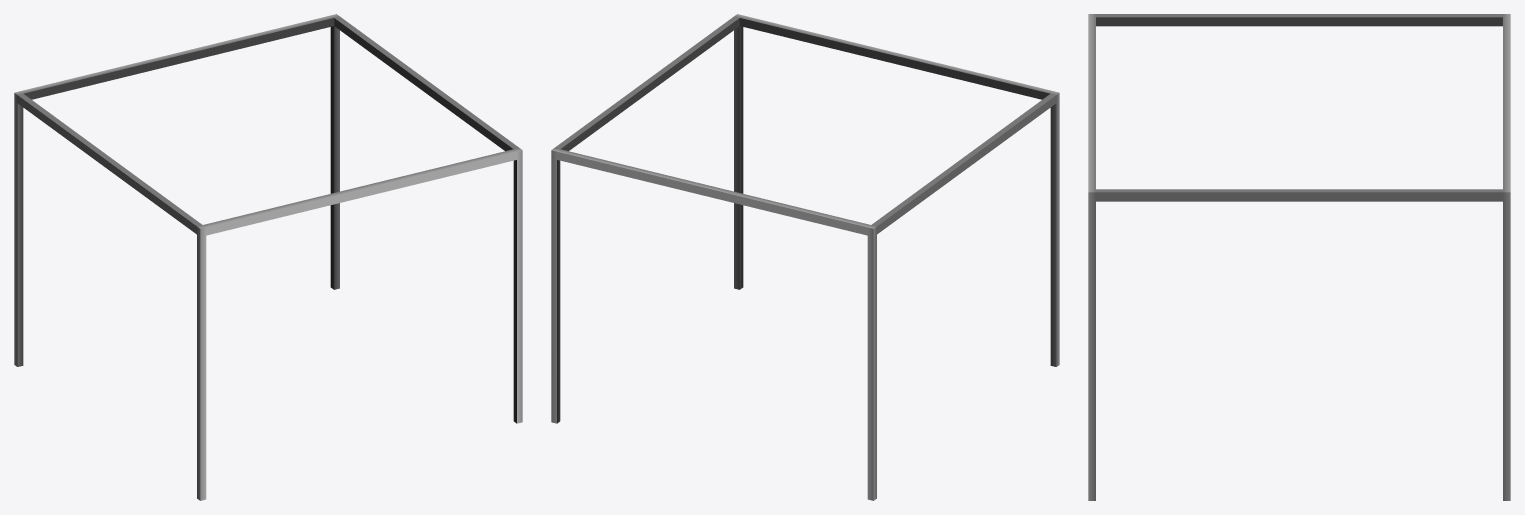
File: SM_Steel_Frame.fbx
3 views of the same model, side by side, from view 1: azimuth 30°, elevation 25°; view 2: azimuth 150°, elevation 25°; view 3: azimuth 270°, elevation 25° (orthographic). The views are drawn at different scales.
Visible parts, largest first — view 1: Market_Steel_Frame_Mash; view 2: Market_Steel_Frame_Mash; view 3: Market_Steel_Frame_Mash.
Part boxes in pixels (left/top/right/bottom): Market_Steel_Frame_Mash: left=14, top=14, right=522, bottom=500; Market_Steel_Frame_Mash: left=551, top=14, right=1059, bottom=500; Market_Steel_Frame_Mash: left=1088, top=14, right=1510, bottom=500.
Size of the model in its own units: 3.32 by 2.67 by 3.32.
